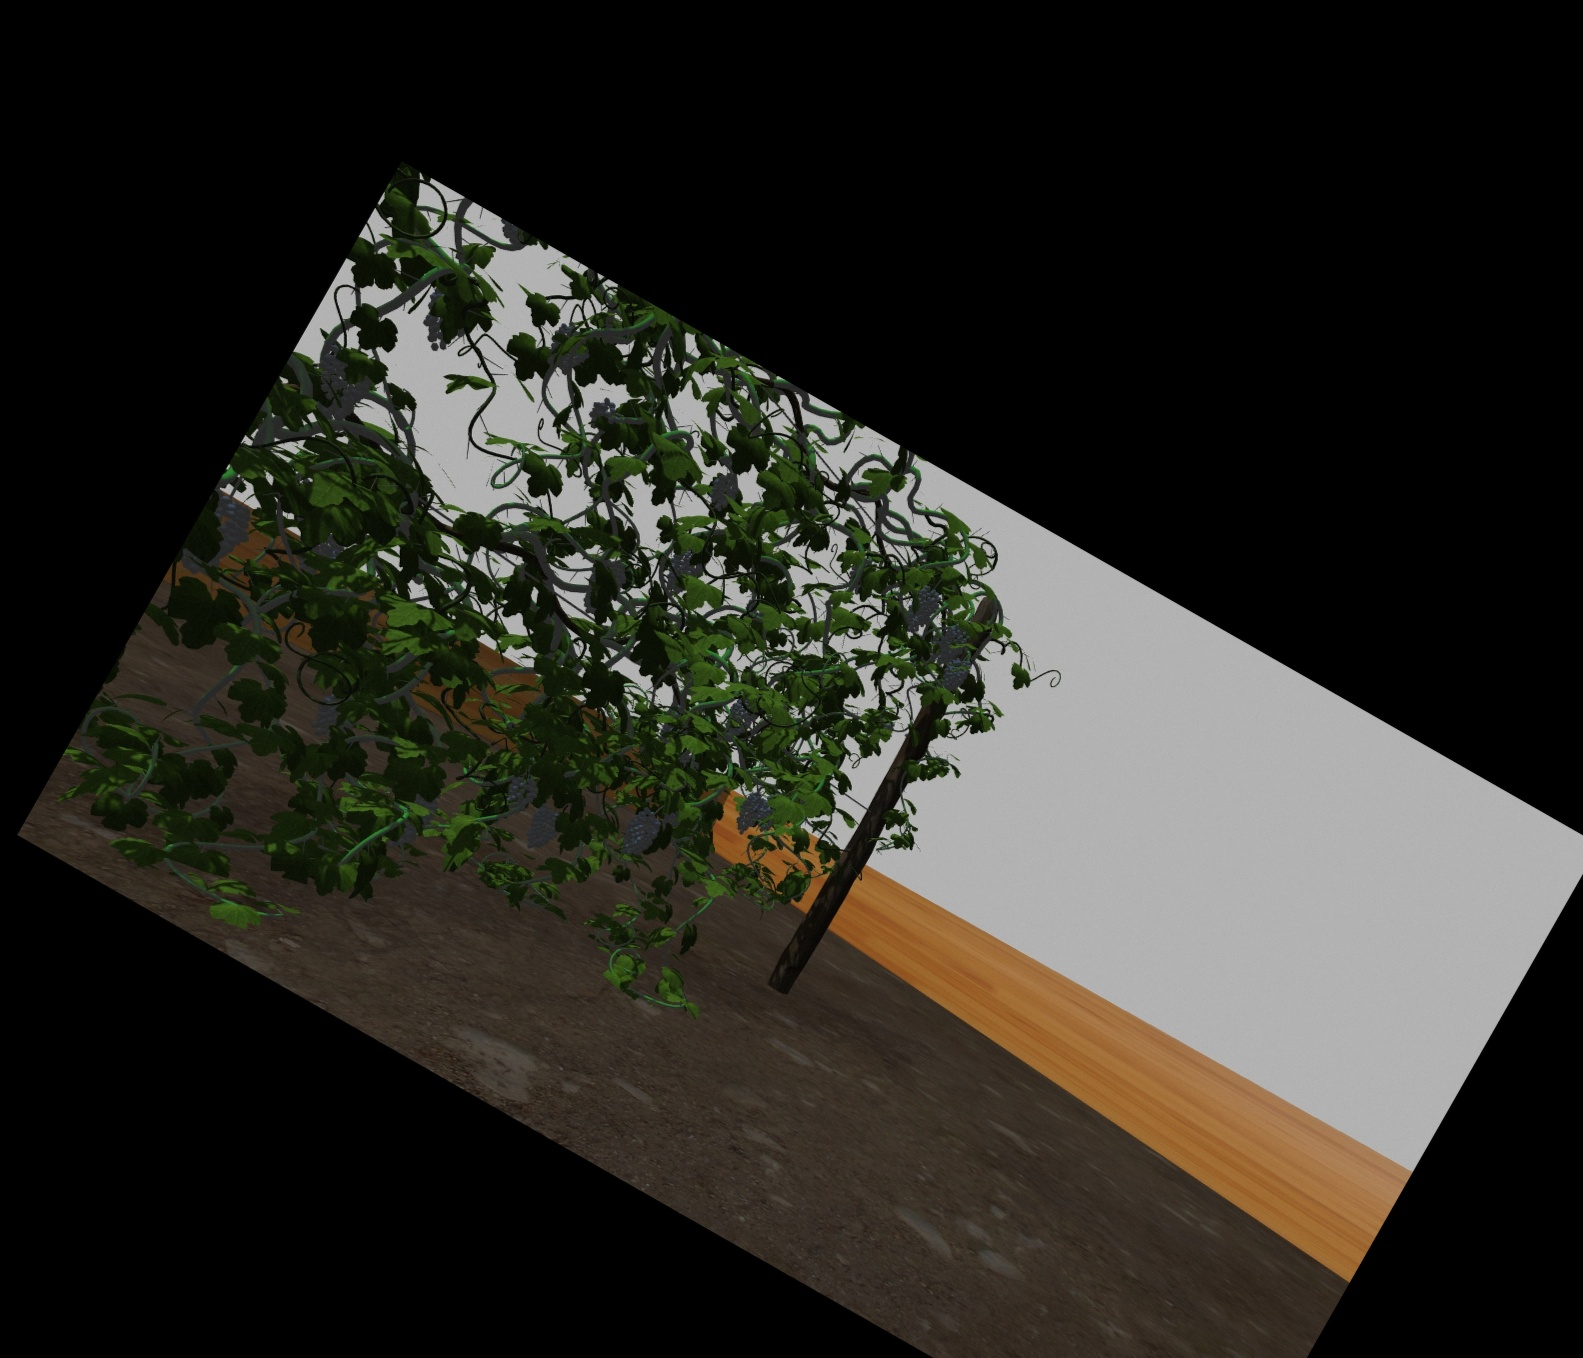grape: (197, 502, 240, 577), (315, 354, 367, 413), (666, 548, 699, 598), (549, 328, 586, 371), (314, 699, 353, 738), (400, 797, 429, 847), (528, 808, 559, 852), (625, 812, 653, 860), (735, 795, 765, 836), (907, 585, 933, 631), (708, 472, 736, 507), (590, 397, 617, 433), (506, 777, 530, 814), (727, 701, 751, 739), (940, 624, 962, 664), (944, 659, 965, 694)
